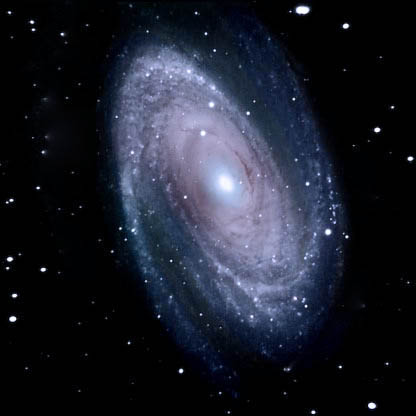Messier 81: (101, 5, 344, 379)
